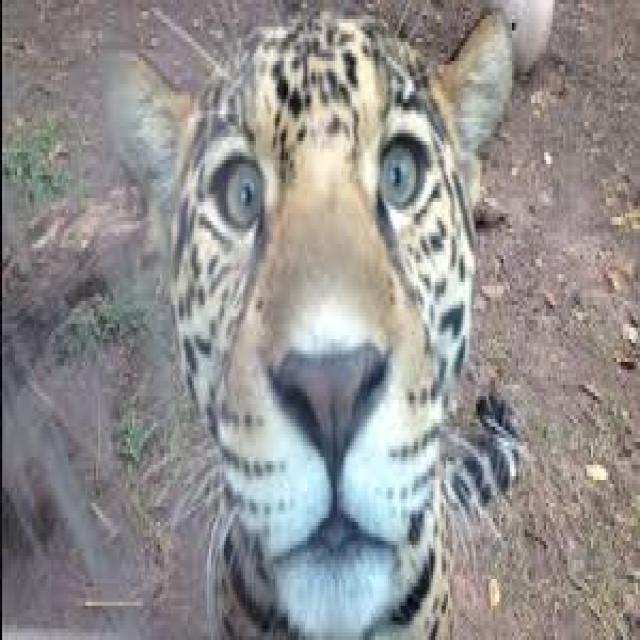Jaguar: (96, 0, 523, 640)
